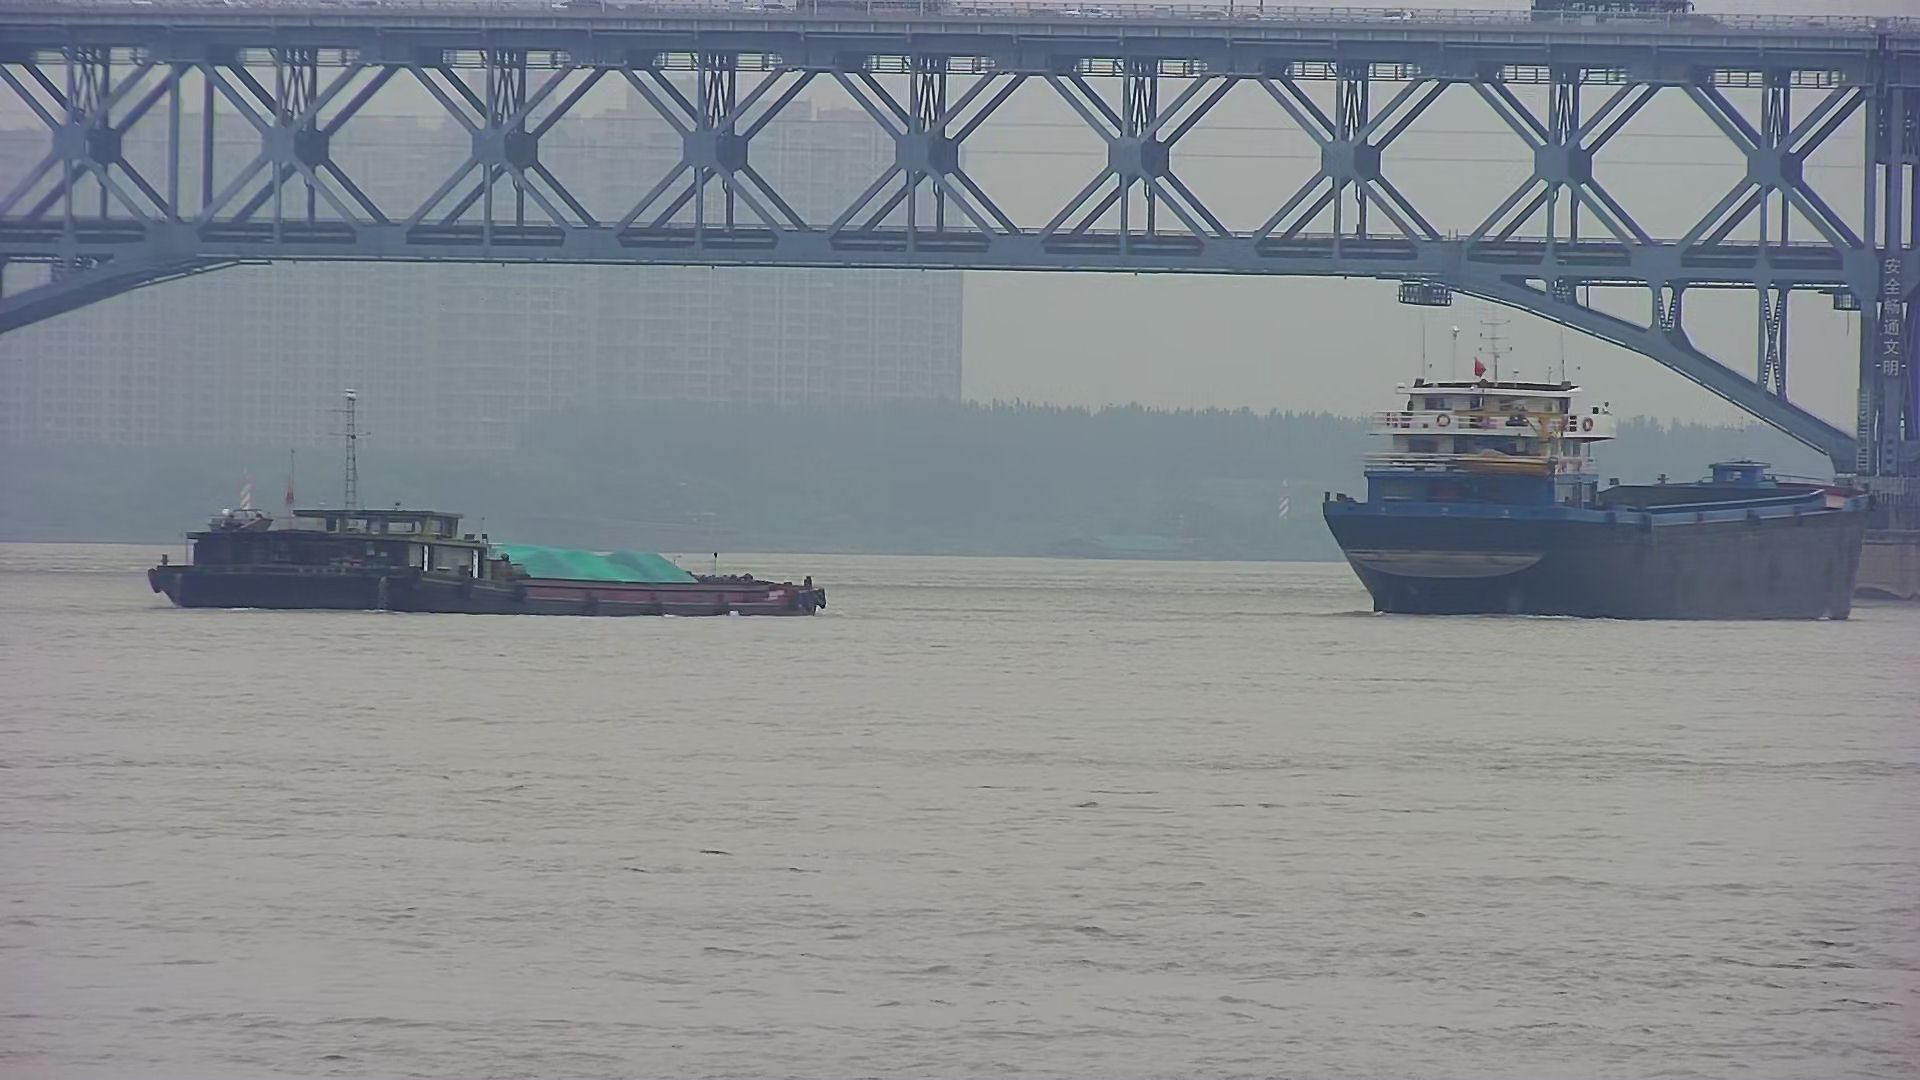bridge: (7, 1, 1913, 353)
ship: (152, 393, 827, 620), (1317, 359, 1867, 625)
